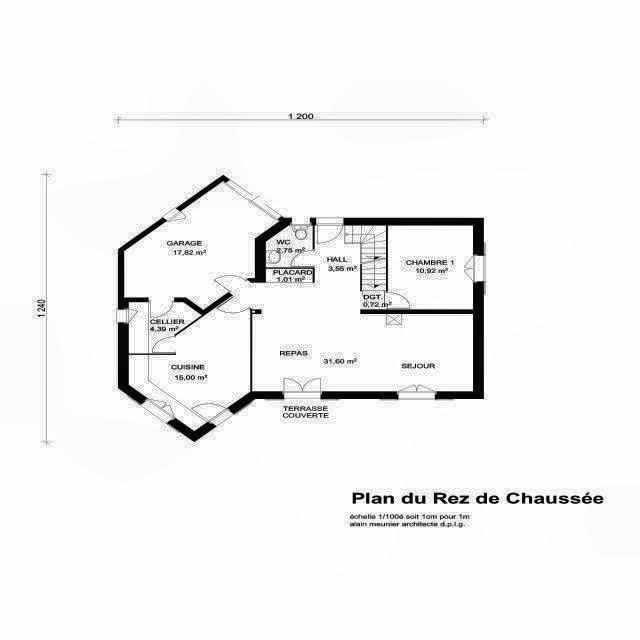room: (230, 226, 473, 391), (99, 167, 298, 341), (115, 283, 289, 447), (388, 226, 472, 309), (128, 302, 202, 354), (266, 225, 313, 267)
